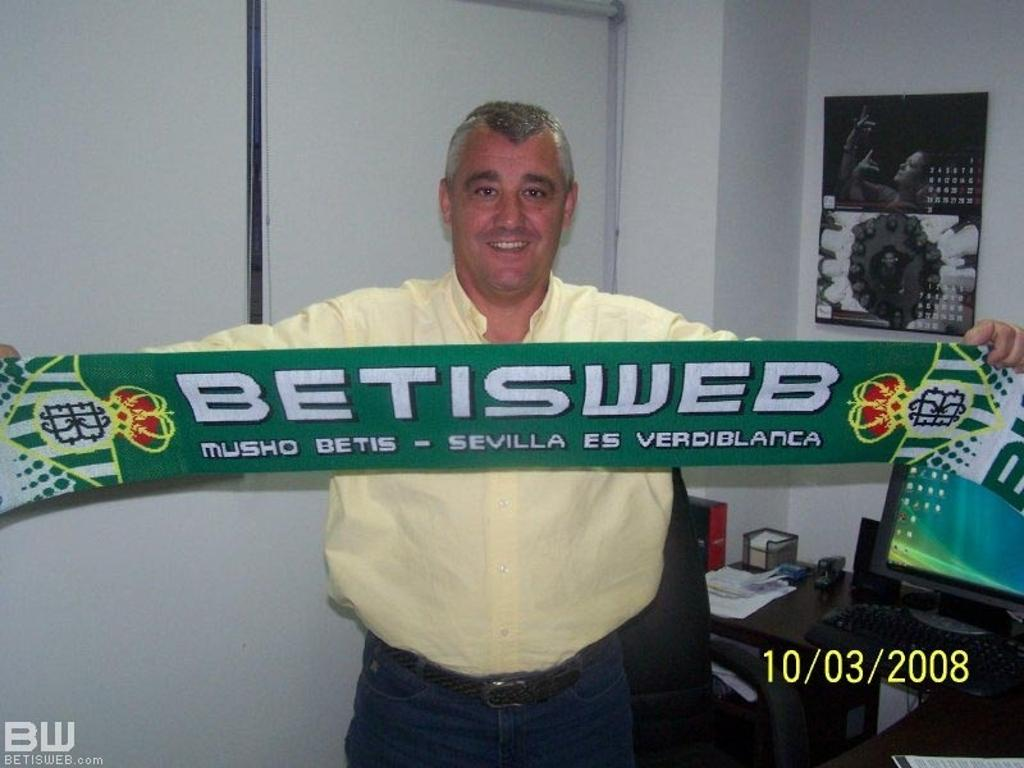face: (448, 130, 554, 298)
